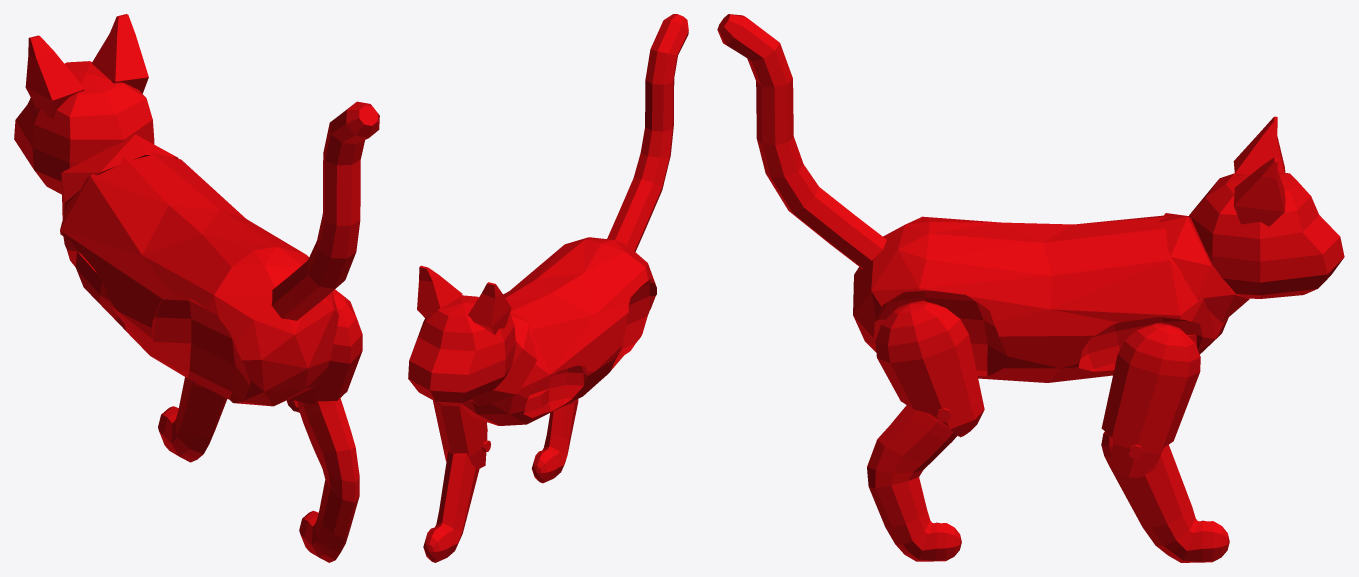
The model's file is cat robot 2.fbx.
3 renders of one model, left to right at view 1: azimuth 30°, elevation 25°; view 2: azimuth 150°, elevation 25°; view 3: azimuth 270°, elevation 25°, orthographic. The views are drawn at different scales.
Parts seen in each view (by area): view 1: Sphere, Sphere.001, Cylinder.001, Back Leg Lower, Plane, Front Leg Lower, Back Leg Upper, Cylinder; view 2: Sphere, Sphere.001, Cylinder.001, Front Leg Lower, Plane, Front Leg Upper, Back Leg Lower, Cylinder; view 3: Sphere, Sphere.001, Cylinder.001, Front Leg Upper, Back Leg Upper, Back Leg Lower, Front Leg Lower, Plane, Cylinder.
Part boxes in pixels (left/top/right/bottom): Sphere: left=60, top=152, right=338, bottom=406; Sphere.001: left=14, top=61, right=154, bottom=194; Cylinder.001: left=271, top=101, right=379, bottom=320; Back Leg Lower: left=298, top=398, right=359, bottom=562; Plane: left=25, top=14, right=148, bottom=118; Front Leg Lower: left=158, top=377, right=227, bottom=462; Back Leg Upper: left=286, top=289, right=362, bottom=412; Cylinder: left=61, top=134, right=178, bottom=218; Sphere: left=461, top=237, right=656, bottom=425; Sphere.001: left=408, top=295, right=515, bottom=406; Cylinder.001: left=607, top=14, right=688, bottom=251; Front Leg Lower: left=423, top=440, right=490, bottom=562; Plane: left=417, top=265, right=511, bottom=335; Front Leg Upper: left=433, top=400, right=487, bottom=469; Back Leg Lower: left=531, top=399, right=578, bottom=483; Cylinder: left=471, top=313, right=537, bottom=406; Sphere: left=853, top=215, right=1228, bottom=382; Sphere.001: left=1189, top=173, right=1344, bottom=298; Cylinder.001: left=717, top=14, right=886, bottom=269; Front Leg Upper: left=1101, top=323, right=1200, bottom=477; Back Leg Upper: left=875, top=300, right=984, bottom=437; Back Leg Lower: left=867, top=405, right=961, bottom=561; Front Leg Lower: left=1101, top=431, right=1229, bottom=562; Plane: left=1233, top=116, right=1285, bottom=226; Cylinder: left=1158, top=213, right=1249, bottom=322.
Bounding box in the file's own units: 333 × 1177 × 1075.
